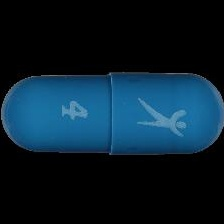55154-3933: (0, 0, 224, 224)
